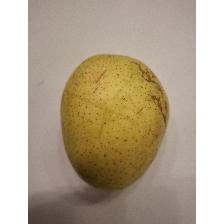Birne: (57, 51, 172, 192)
